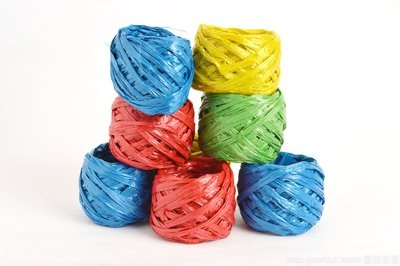9/可回收垃圾/绳子: (108, 24, 193, 114), (149, 157, 236, 244), (237, 152, 327, 236), (198, 89, 289, 163), (108, 94, 195, 168), (79, 143, 152, 229), (192, 24, 281, 94)
